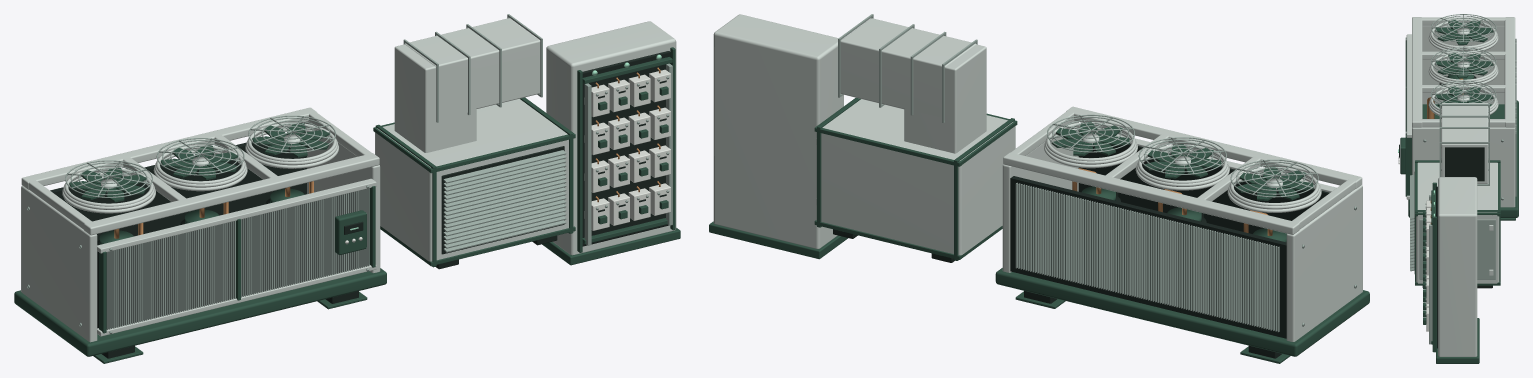
Rendered from commercial-equipment-v1.glb.
3 views of the same model, side by side, from view 1: azimuth 30°, elevation 25°; view 2: azimuth 150°, elevation 25°; view 3: azimuth 270°, elevation 25° (orthographic). The views are drawn at different scales.
Parts seen in each view (by area): view 1: ahu-frame-duct-and-hardware, service-fin-bank, fan-deck-metalwork, switchboard-controls-and-wiring, ahu-body, plant-end-panels, switchboard-body, plant-base, service-coil-frame, switchboard-inset, rear-coil, rotor-0 (+5 smaller); view 2: switchboard-body, rear-fin-bank, ahu-body, ahu-frame-duct-and-hardware, fan-deck-metalwork, plant-end-panels, rear-coil, plant-base, coil-core, switchboard-controls-and-wiring, rotor-2, rotor-0 (+2 smaller); view 3: fan-deck-metalwork, switchboard-body, ahu-frame-duct-and-hardware, plant-end-panels, switchboard-controls-and-wiring, ahu-body, service-coil-frame, plant-base, rotor-1, rotor-0, rotor-2, rear-fin-bank (+3 smaller).
Part boxes in pixels (box(x1,y1,x2,y2)): ahu-frame-duct-and-hardware: box(373, 14, 575, 269); service-fin-bank: box(106, 188, 369, 330); fan-deck-metalwork: box(21, 107, 379, 235); switchboard-controls-and-wiring: box(542, 47, 680, 265); ahu-body: box(375, 98, 573, 261); plant-end-panels: box(21, 121, 380, 363); switchboard-body: box(546, 21, 676, 255); plant-base: box(14, 268, 386, 356); service-coil-frame: box(97, 178, 376, 336); switchboard-inset: box(582, 51, 670, 246); rear-coil: box(50, 132, 306, 240); rotor-0: box(69, 168, 146, 202); switchboard-body: box(713, 14, 843, 248); rear-fin-bank: box(1015, 182, 1279, 332); ahu-body: box(816, 99, 1015, 255); ahu-frame-duct-and-hardware: box(814, 14, 1017, 262); fan-deck-metalwork: box(1003, 106, 1362, 234); plant-end-panels: box(1002, 120, 1362, 363); rear-coil: box(1010, 176, 1286, 338); plant-base: box(995, 268, 1369, 356); coil-core: box(1078, 133, 1329, 233); switchboard-controls-and-wiring: box(709, 221, 847, 259); rotor-2: box(1051, 121, 1129, 156); rotor-0: box(1235, 166, 1313, 200); fan-deck-metalwork: box(1412, 14, 1515, 127); switchboard-body: box(1438, 177, 1477, 356); ahu-frame-duct-and-hardware: box(1410, 103, 1500, 288); plant-end-panels: box(1412, 25, 1515, 220); switchboard-controls-and-wiring: box(1423, 182, 1479, 363); ahu-body: box(1416, 162, 1499, 283); service-coil-frame: box(1405, 34, 1411, 199); plant-base: box(1408, 100, 1518, 217); rotor-1: box(1435, 53, 1493, 78); rotor-0: box(1435, 20, 1493, 45); rotor-2: box(1435, 86, 1493, 106); rear-fin-bank: box(1515, 38, 1516, 196).
Bounding box in the file's own units: 8.96 × 3.24 × 2.06.
